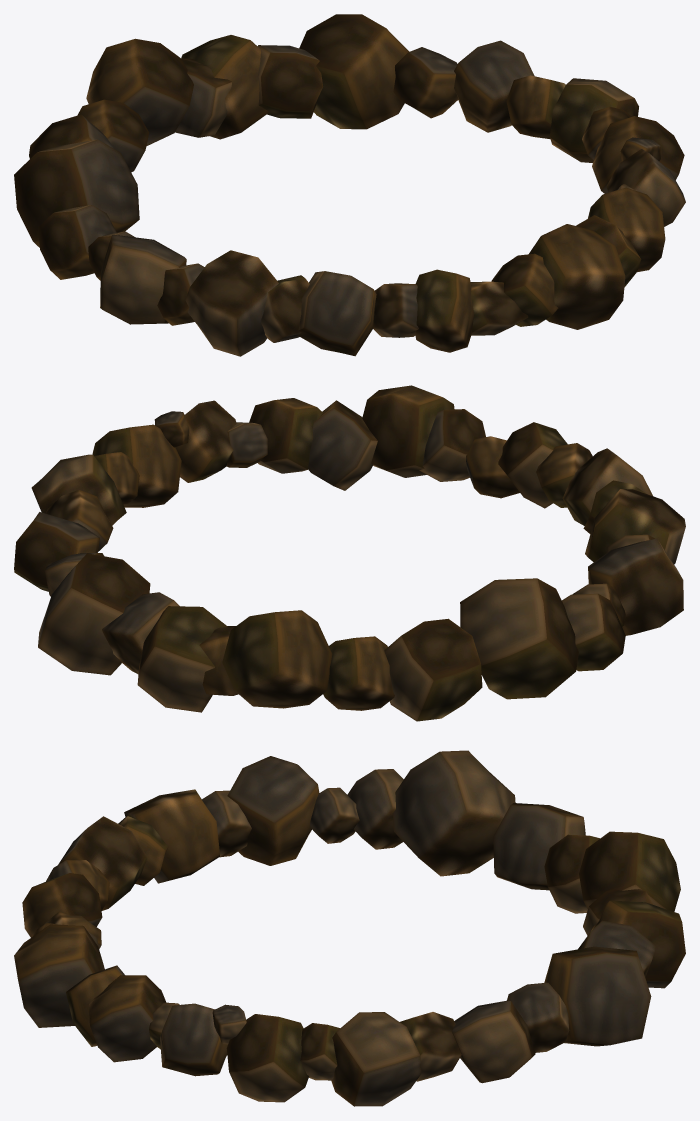
Rendered from potatomine_tierra.obj.
3 views of the same model, one above another, from view 1: azimuth 30°, elevation 25°; view 2: azimuth 150°, elevation 25°; view 3: azimuth 270°, elevation 25° (orthographic).
Visible parts, largest first — view 1: potatomine_tierra; view 2: potatomine_tierra; view 3: potatomine_tierra.
Part boxes in pixels (left/top/right/bottom): potatomine_tierra: left=14, top=14, right=685, bottom=356; potatomine_tierra: left=14, top=385, right=685, bottom=721; potatomine_tierra: left=14, top=750, right=685, bottom=1106.
Bounding box in the file's own units: 0.896 × 0.1698 × 0.8794.
